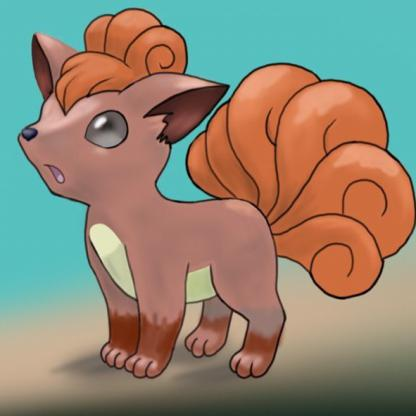Vulpix: (14, 12, 412, 384)
